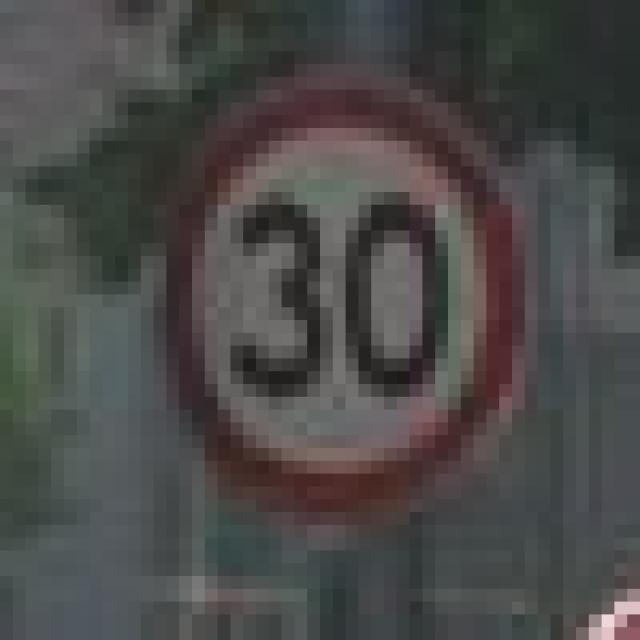SPEED_LIMIT_30: (141, 51, 525, 512)
